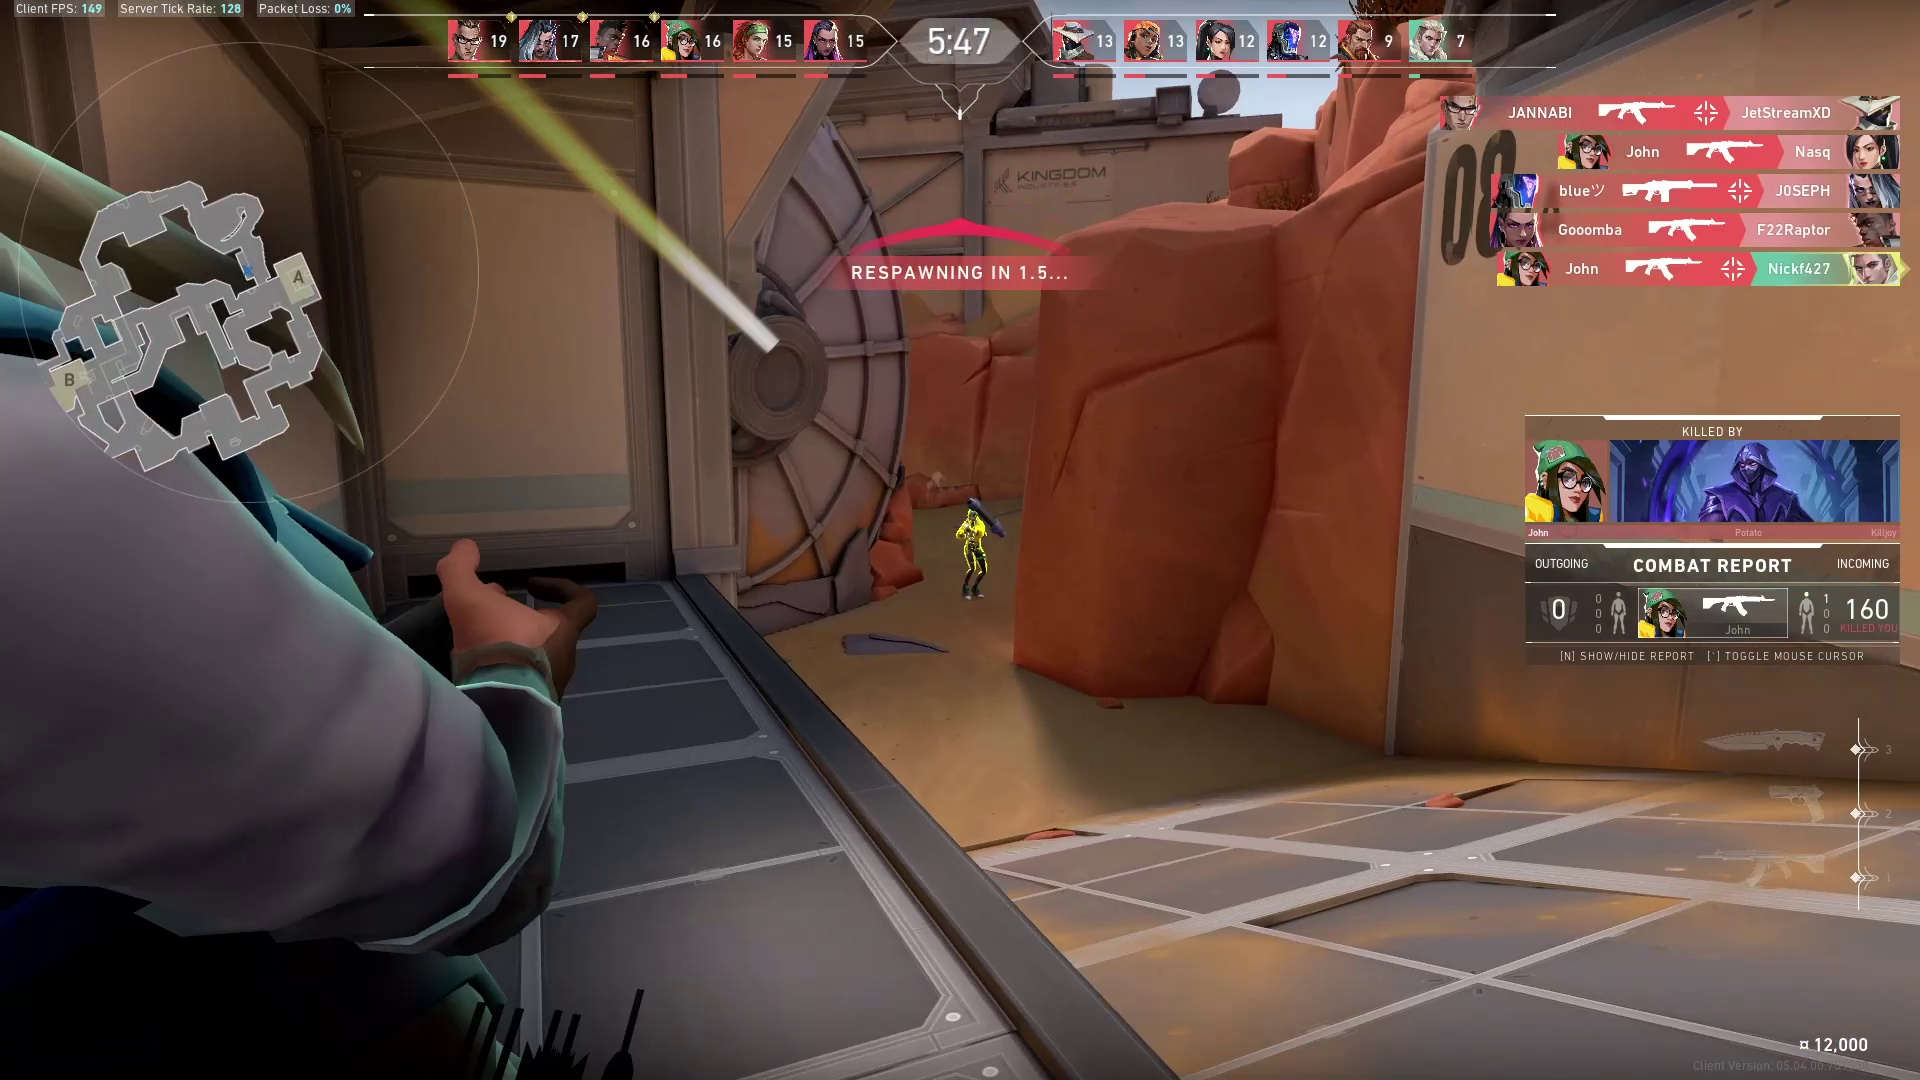enemy_body: (957, 521, 992, 603)
enemy_head: (964, 505, 980, 526)
